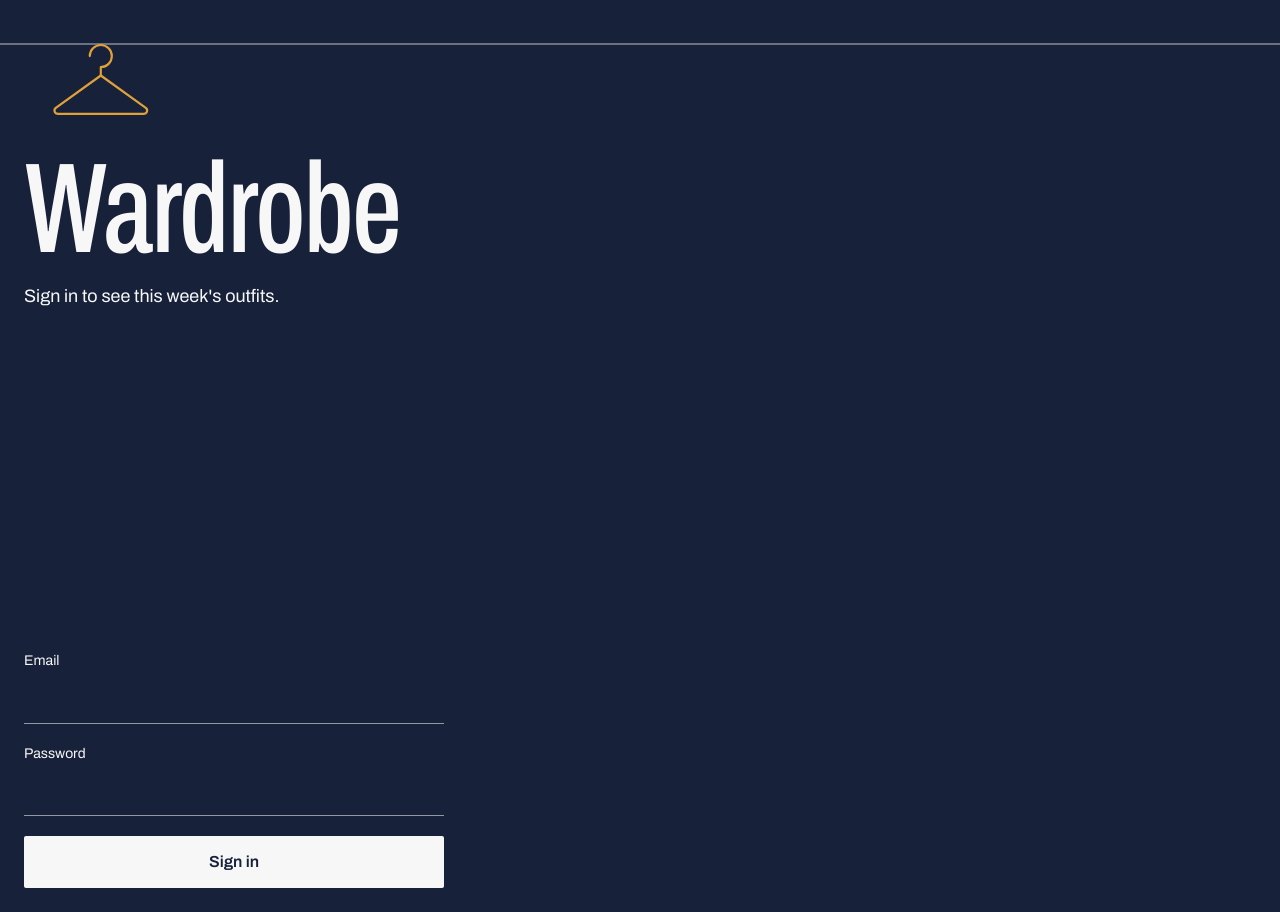
Test case: when signed out › explains an unreachable service
The width and height of the screenshot is (1280, 912).
Type "test@example.test" into the field labelled "Email" at (234, 700), box [24,676,444,724]
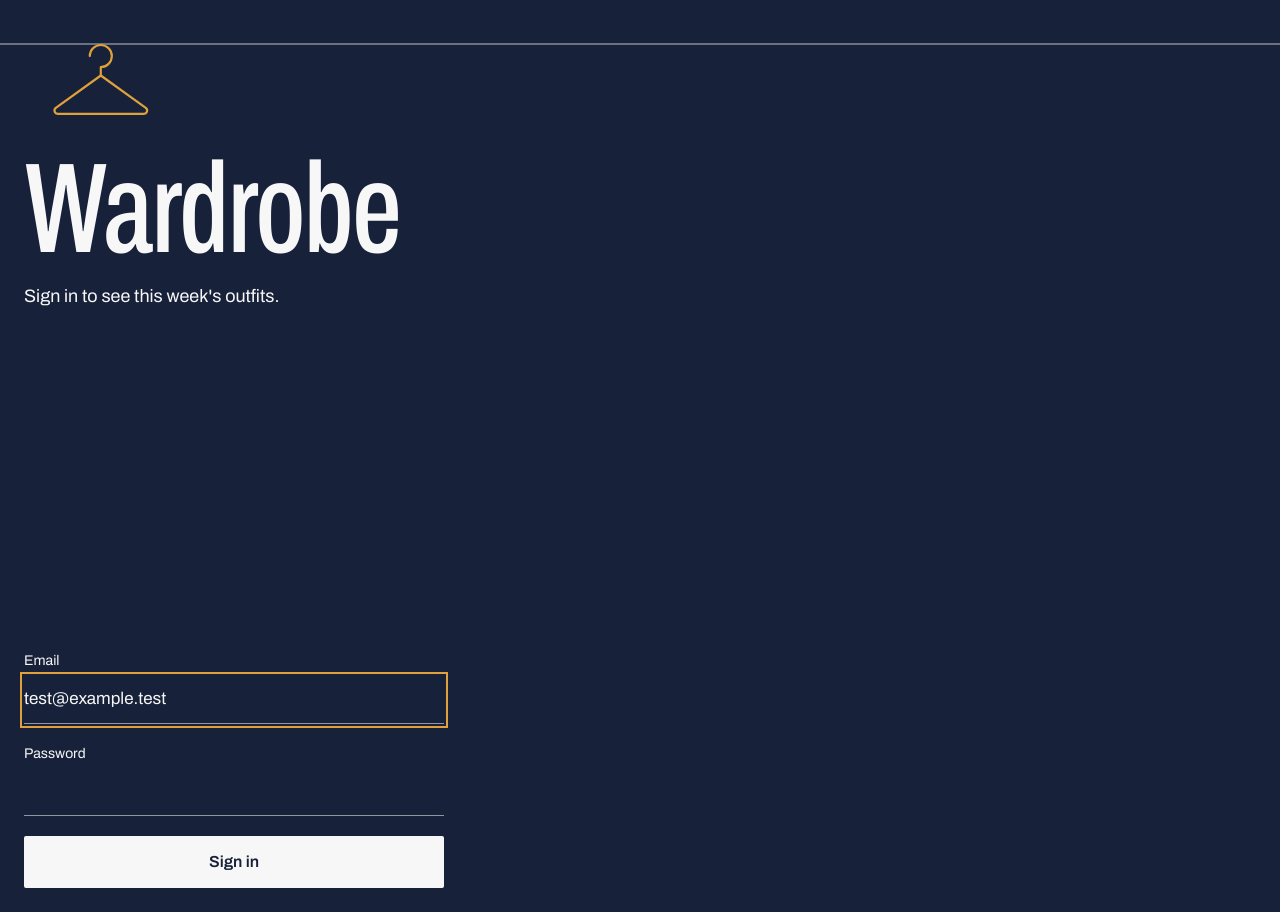
Type "test-value" into the password field labelled "Password" at (234, 792), box [24,768,444,816]
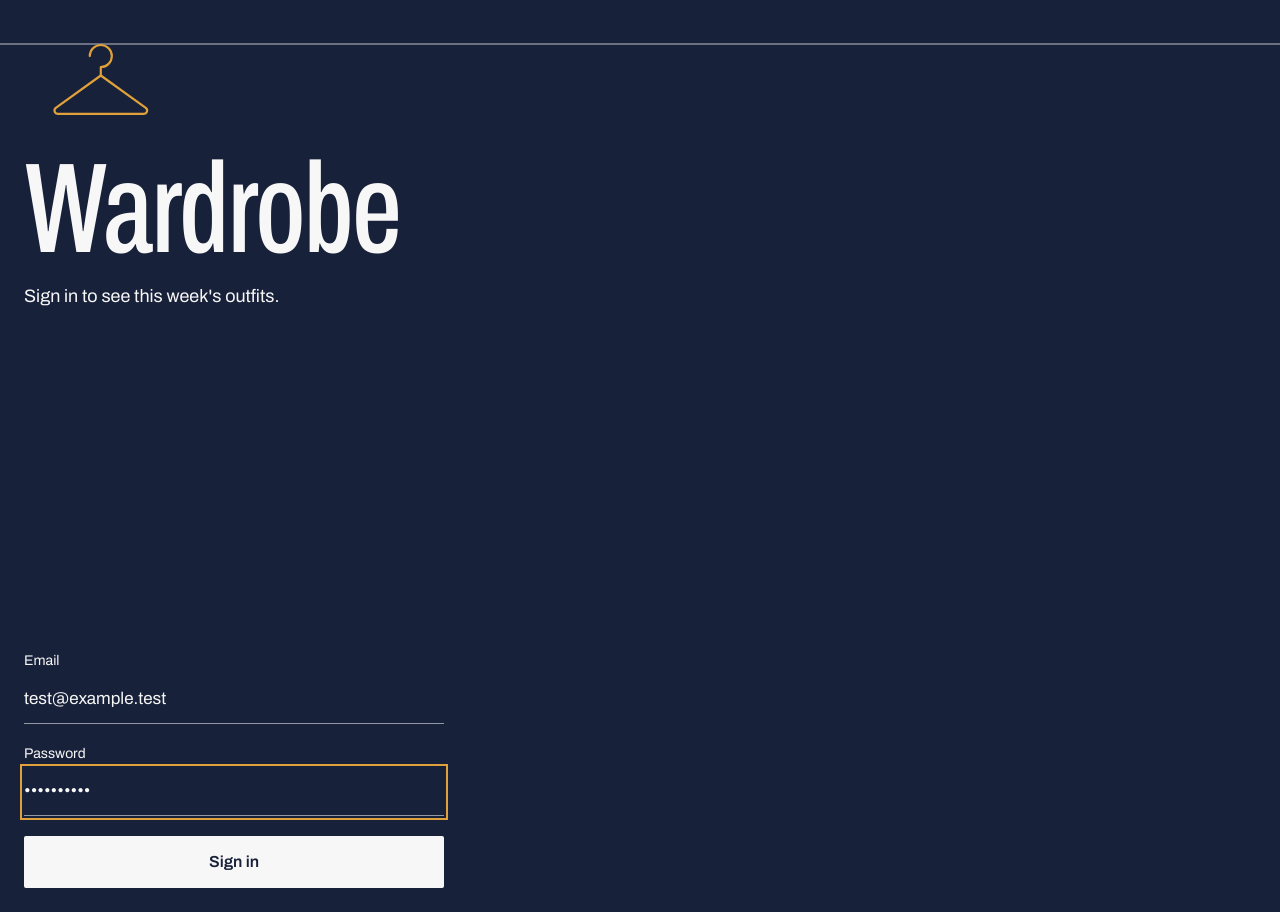
Click the button "Sign in" at (234, 862), box [24,836,444,888]
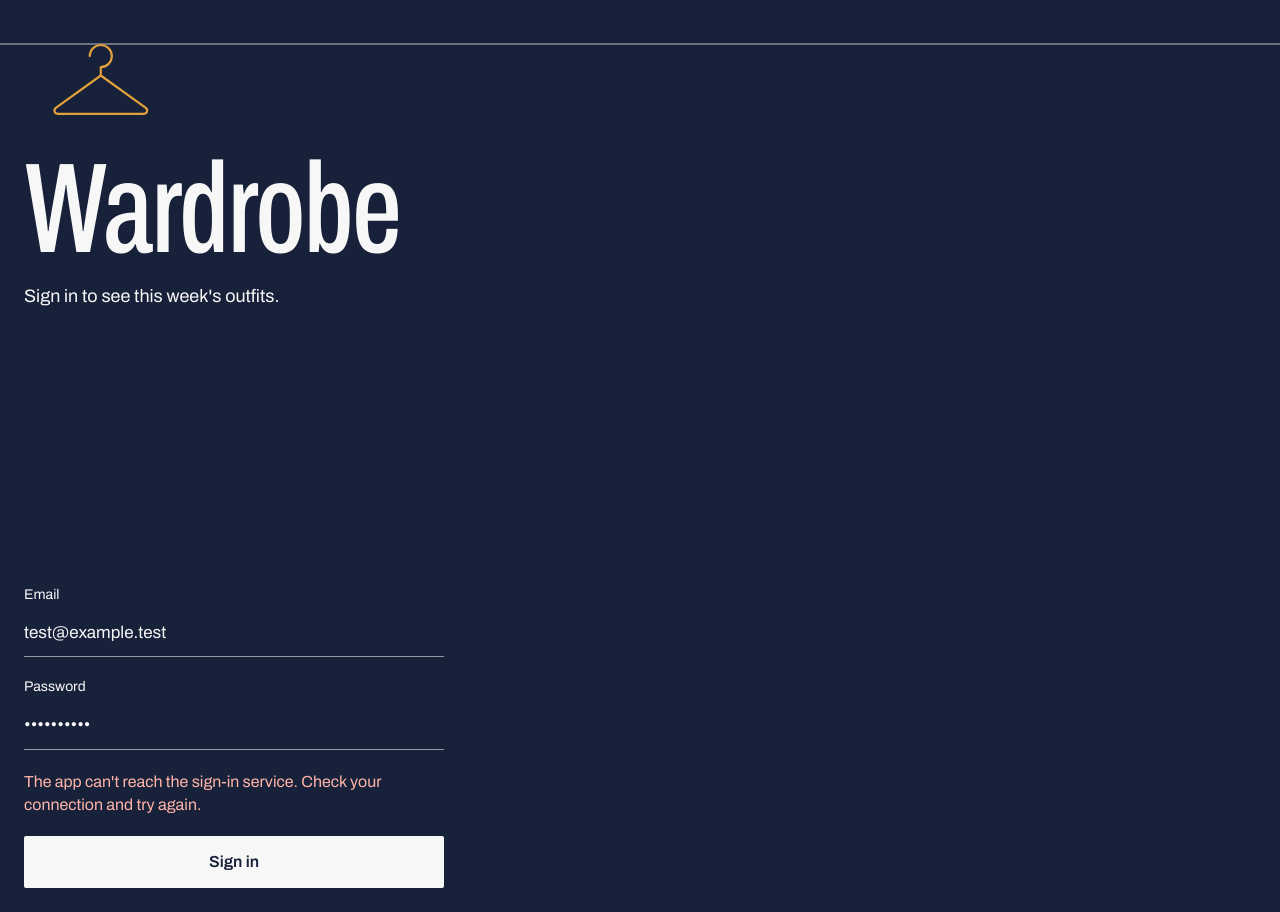
Result: the message shows "can't reach" at [24,773,381,813]
